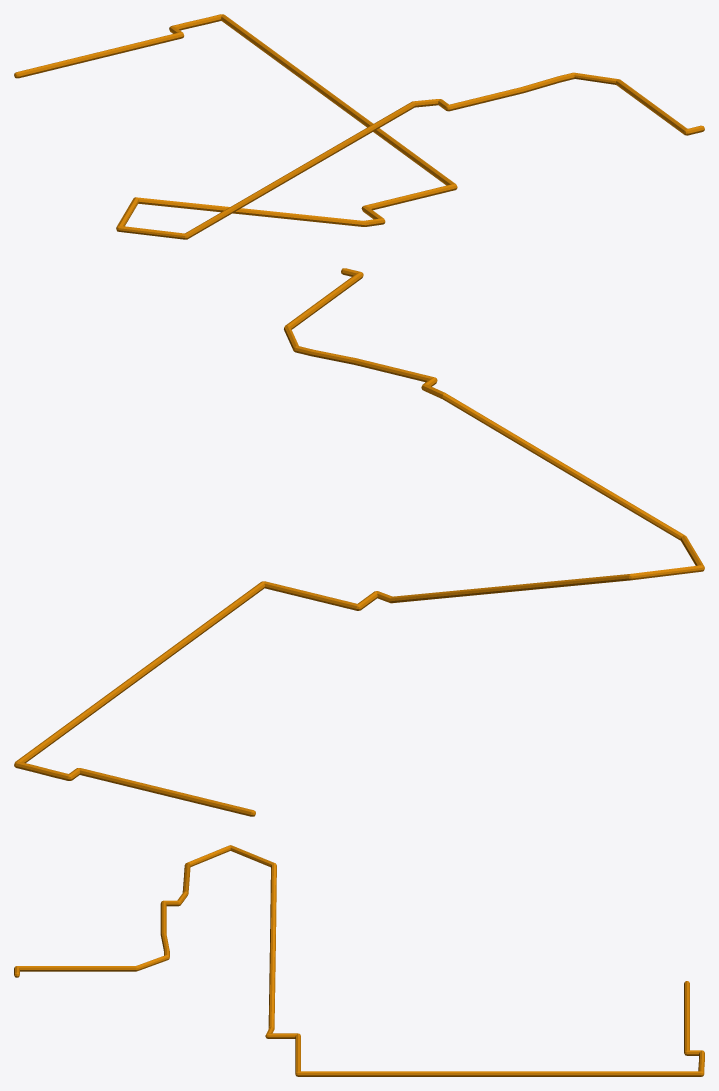
The picture shows the model from 3 angles, top to bottom: view 1: azimuth 30°, elevation 25°; view 2: azimuth 150°, elevation 25°; view 3: azimuth 270°, elevation 25°; orthographic projection. The views are drawn at different scales.
Size of the model in its own units: 1563 by 520 by 2313.
